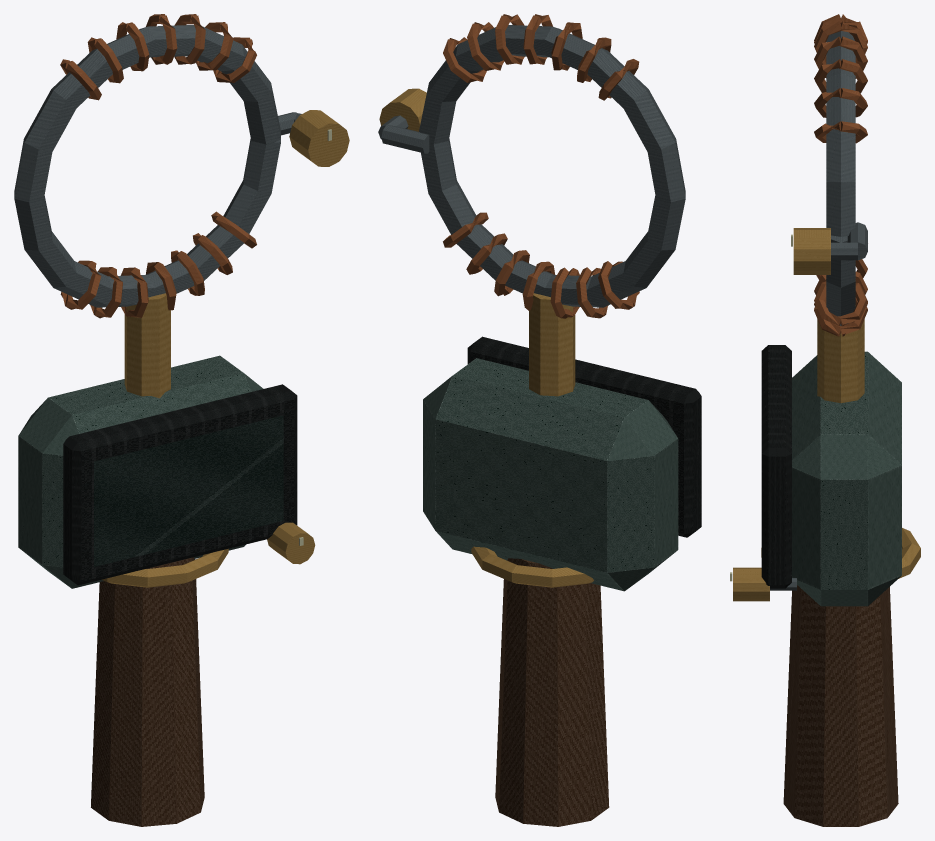
Rendered from blender_ritual_anchor_meter_3.glb.
3 renders of one model, left to right at view 1: azimuth 30°, elevation 25°; view 2: azimuth 150°, elevation 25°; view 3: azimuth 270°, elevation 25°, orthographic.
Parts seen in each view (by area): view 1: blender_ritual_anchor_meter_3; view 2: blender_ritual_anchor_meter_3; view 3: blender_ritual_anchor_meter_3.
Part boxes in pixels (x1=…): blender_ritual_anchor_meter_3: x1=14, y1=14, x2=349, y2=826; blender_ritual_anchor_meter_3: x1=378, y1=14, x2=701, y2=826; blender_ritual_anchor_meter_3: x1=730, y1=14, x2=920, y2=826.
Size of the model in its own units: 0.105 by 0.2524 by 0.0564.
Materials: 8 (8 with a texture image).
